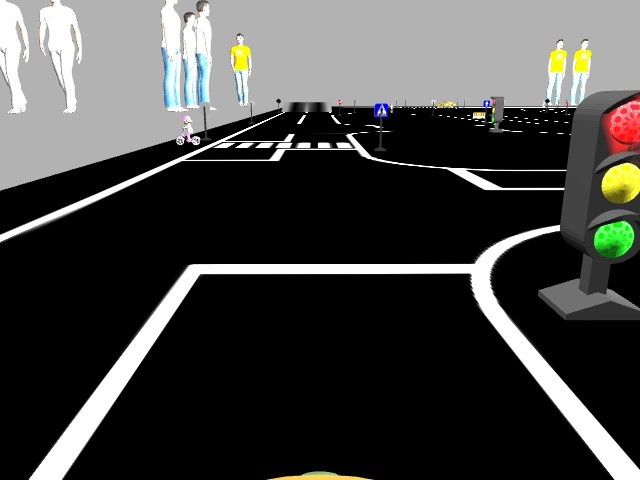Crosswalk: (374, 104, 388, 117)
Pedestrian: (174, 114, 199, 144)
TrafficLight: (560, 89, 639, 259)
